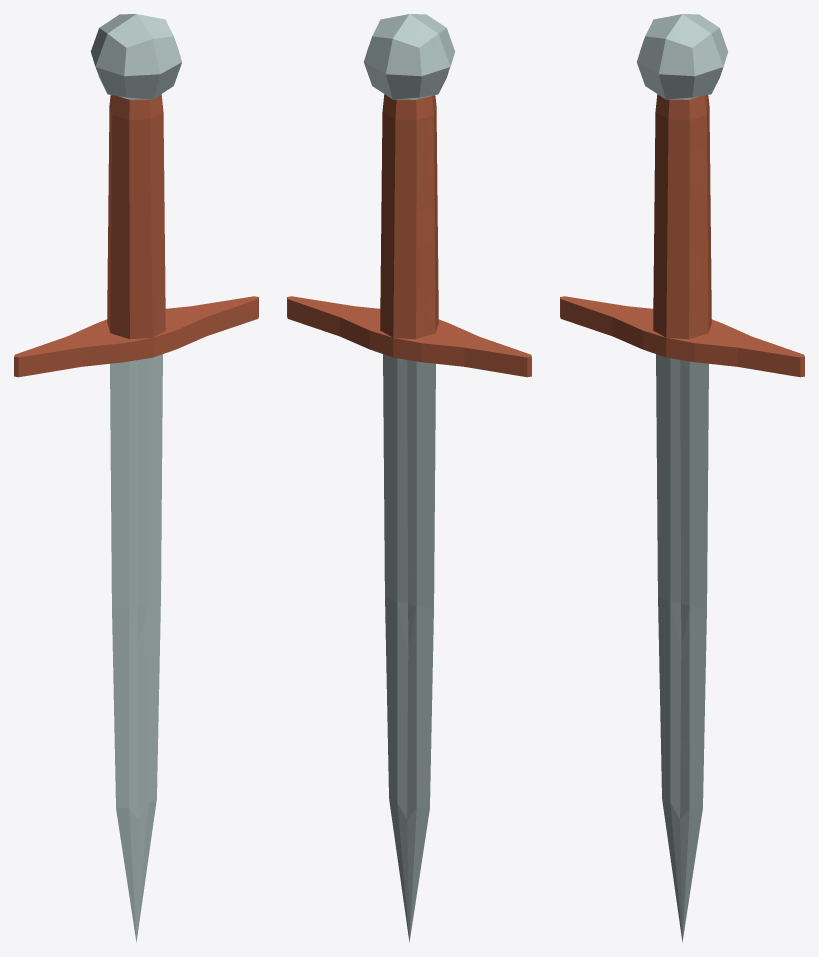
Rendered from Dagger.glb.
3 renders of one model, left to right at view 1: azimuth 30°, elevation 25°; view 2: azimuth 150°, elevation 25°; view 3: azimuth 330°, elevation 25°, orthographic.
Visible parts, largest first — view 1: Dagger; view 2: Dagger; view 3: Dagger.
Part boxes in pixels (x1,y1,x2,y2): Dagger: (14, 14, 258, 942); Dagger: (287, 14, 531, 942); Dagger: (560, 14, 804, 942).
Bounding box in the file's own units: 0.12 × 0.4349 × 0.0402.
1 material, 1 textured.
